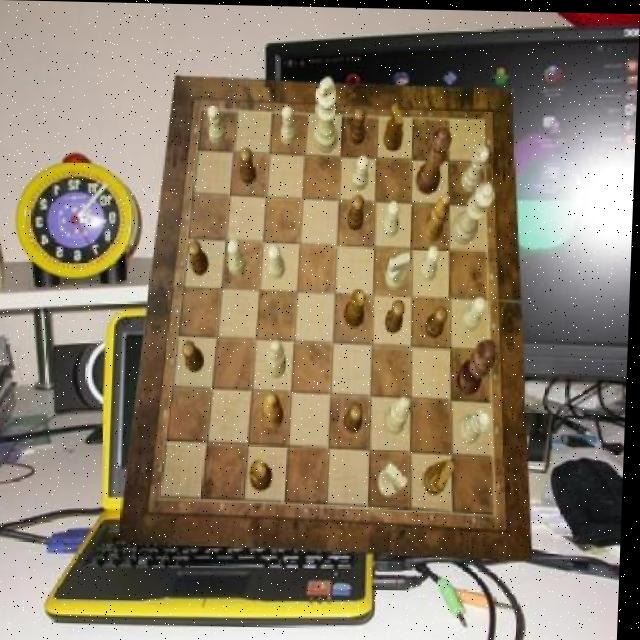bishop: (424, 189, 452, 240), (265, 391, 287, 427)
black-bishop: (459, 338, 498, 394)
black-king: (427, 457, 458, 494), (383, 101, 405, 148)
black-knight: (184, 340, 207, 373), (427, 304, 450, 337), (189, 239, 210, 274), (350, 106, 368, 145), (387, 297, 407, 332), (239, 146, 257, 184), (348, 194, 366, 229), (348, 402, 367, 433)
black-pawn: (416, 126, 453, 194)
black-queen: (345, 286, 369, 327), (252, 458, 276, 491)
black-rook: (386, 395, 412, 434), (268, 339, 289, 377)
white-bishop: (314, 75, 339, 151)
white-king: (380, 461, 411, 496), (386, 250, 413, 288)
white-knight: (463, 294, 488, 329), (421, 244, 442, 279), (229, 238, 249, 274), (281, 105, 299, 145), (208, 104, 226, 144), (270, 243, 288, 278), (385, 199, 402, 236), (352, 154, 370, 188)
white-pawn: (452, 179, 497, 242)
white-queen: (462, 144, 490, 190), (460, 407, 493, 443)
